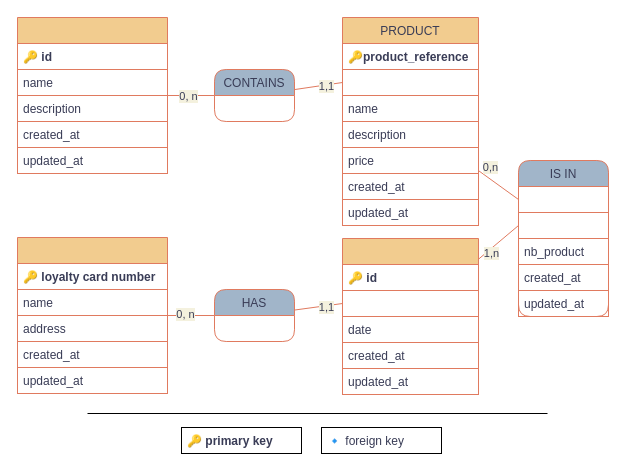
The diagram is 626 pixels wide and 474 high, and some of its shapes have lost their labels. The box of each missing label's shape, as (x1, y1, x2, y2) in pixels:
CART: (342, 238, 478, 394)
CATEGORY: (16, 16, 168, 174)
CUSTOMER: (16, 236, 168, 394)
🔹 cart_id: (518, 212, 608, 238)
🔹 category_id: (342, 68, 478, 96)
🔹 customer_id: (342, 290, 478, 316)
🔹 product_id: (518, 186, 608, 212)
